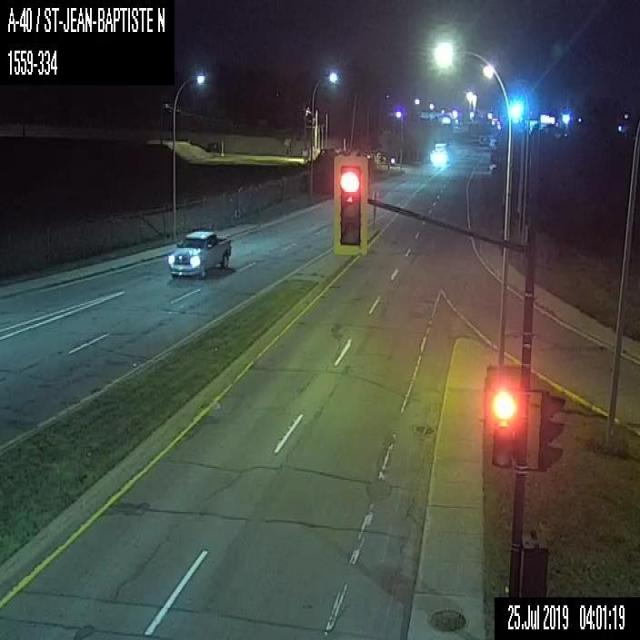vehicle: (165, 228, 232, 279)
